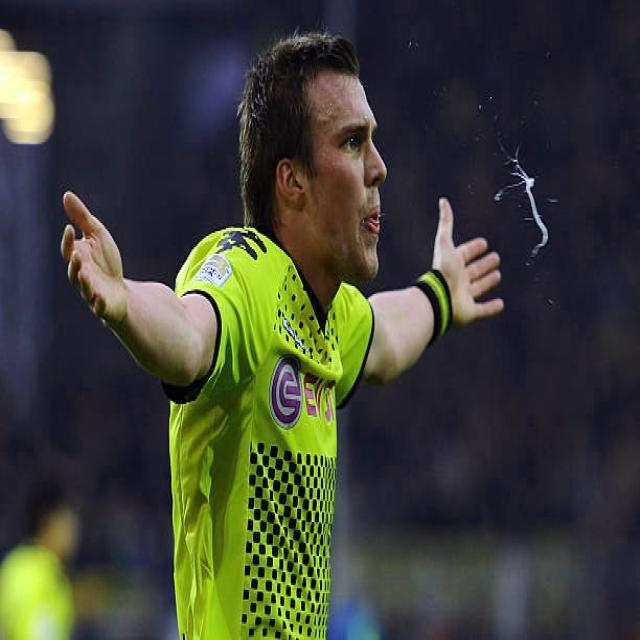Spitting: (232, 31, 526, 400)
